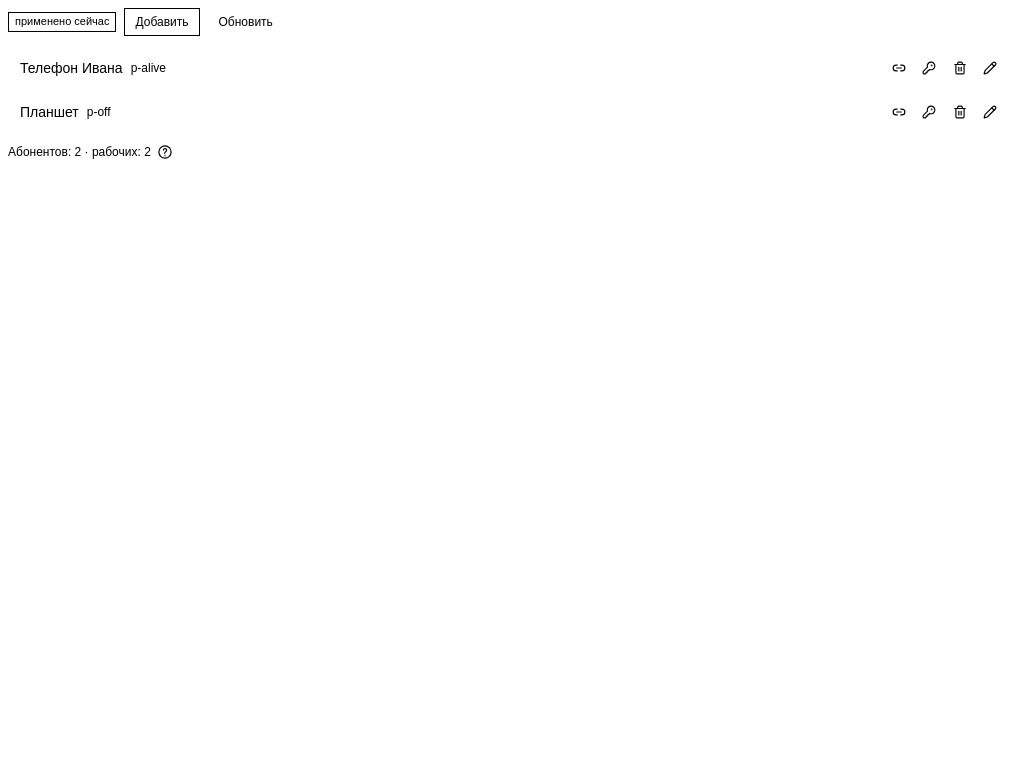
Test case: страж гонки ответов (WU-08) › отставший GET не затирает результат мутации
The width and height of the screenshot is (1024, 768).
expect the text "Планшет" is shown: met, box top-left (20, 104), bottom-right (79, 120)
Click the button "Обновить": (246, 22) top-left (208, 8), bottom-right (284, 36)
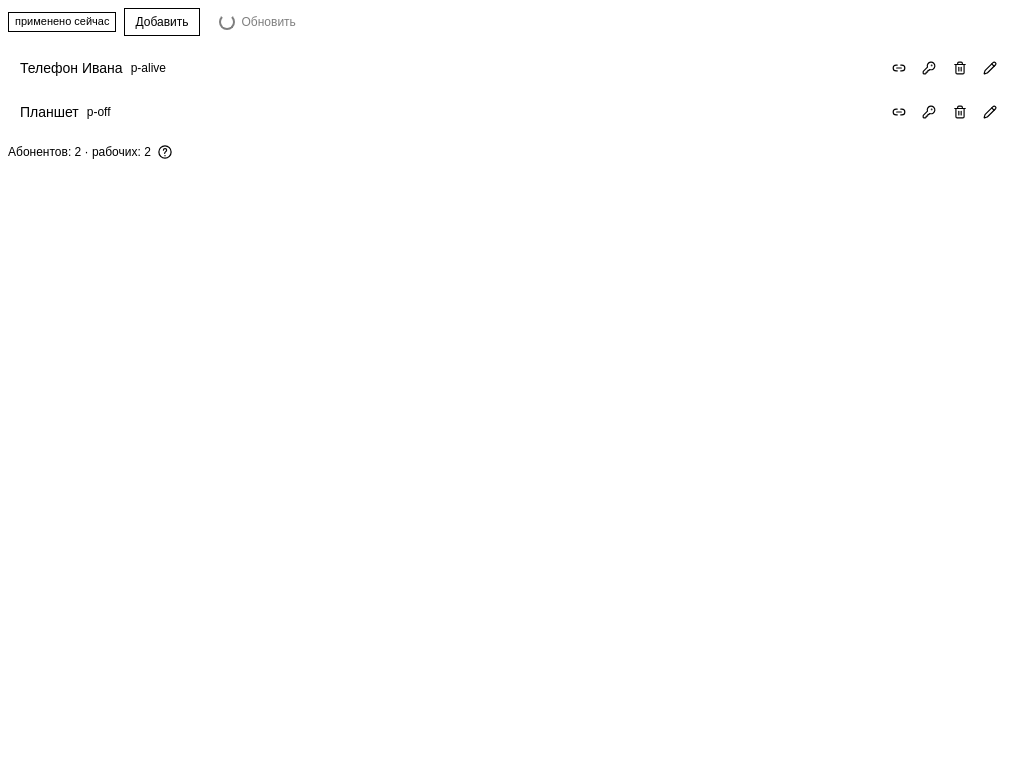
Click the button named "Удалить" in the row of "Планшет": (960, 112) top-left (946, 98), bottom-right (974, 126)
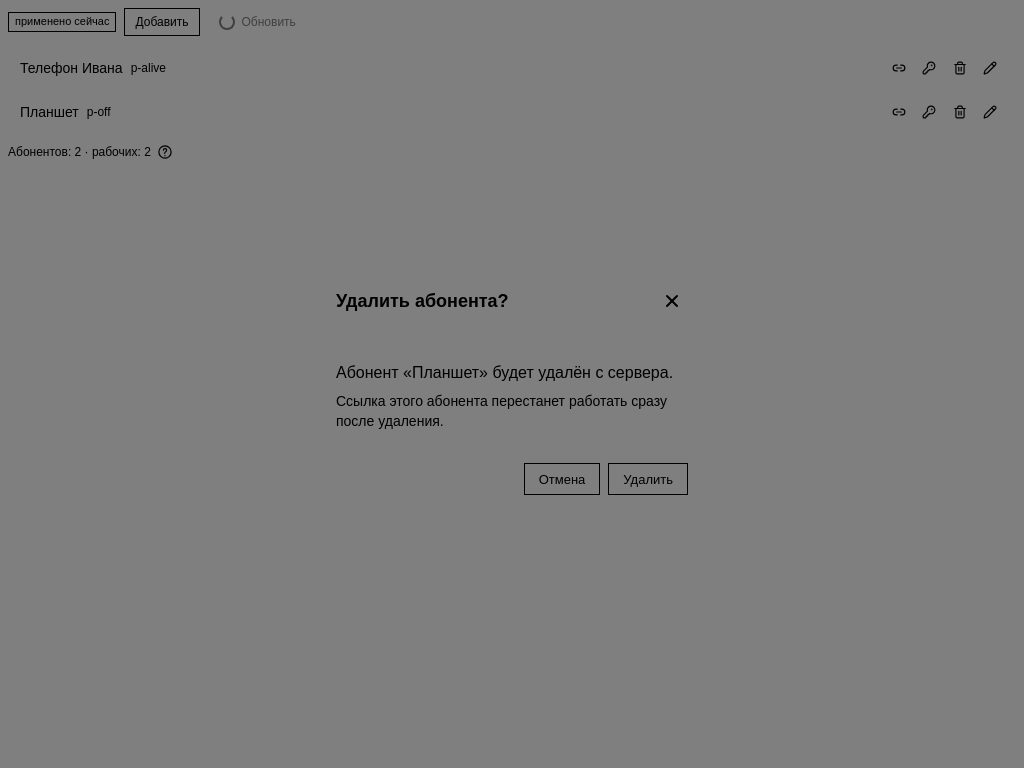
Click the button "Удалить": (648, 479) top-left (608, 463), bottom-right (688, 495)
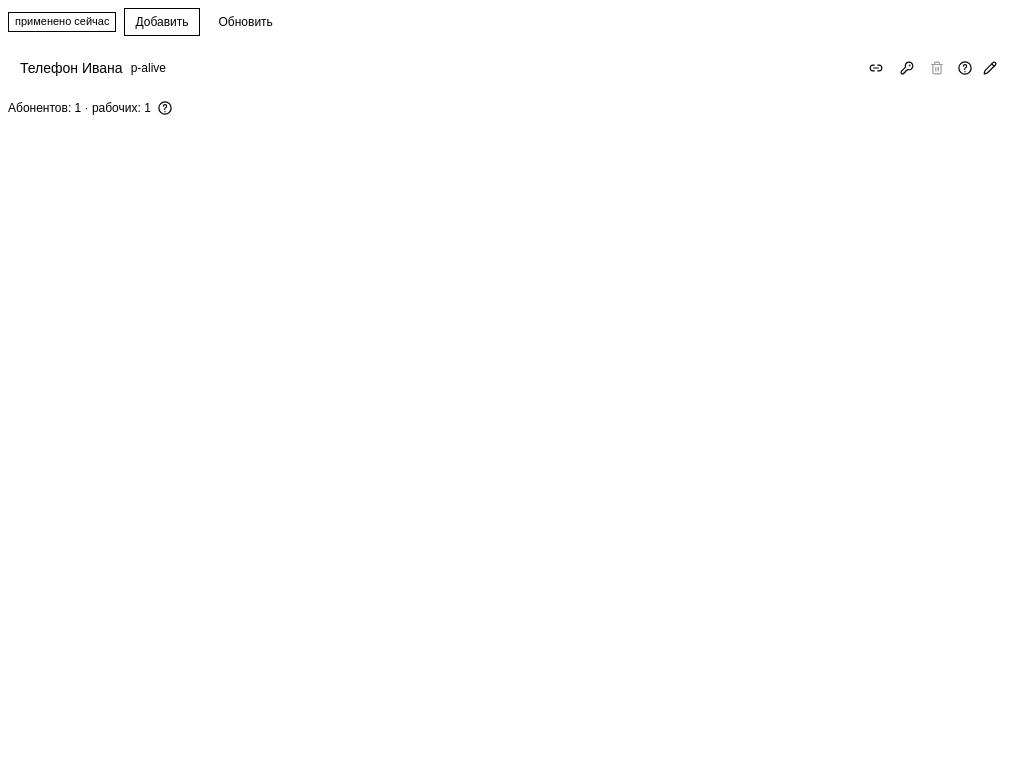
expect the button "Обновить" is enabled: met, box top-left (208, 8), bottom-right (284, 36)
expect the text "Планшет" is gone: met
expect the text "Абонентов: 1 · рабочих: 1" is shown: met, box top-left (8, 101), bottom-right (151, 115)
